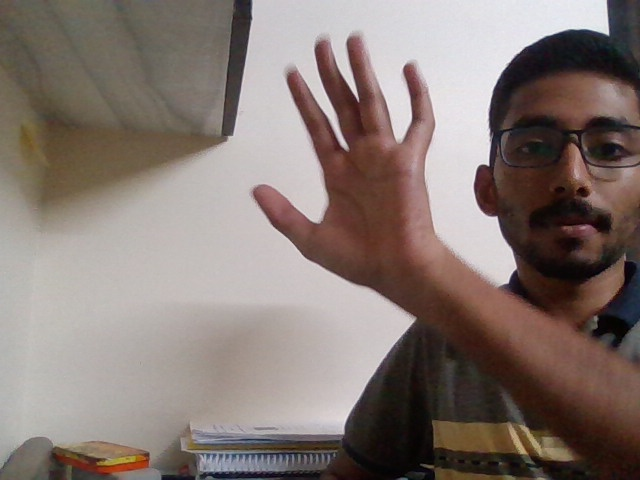Hello: (233, 22, 457, 322)
